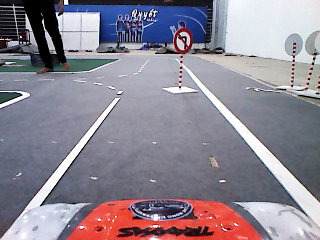ban: (173, 27, 193, 54)
